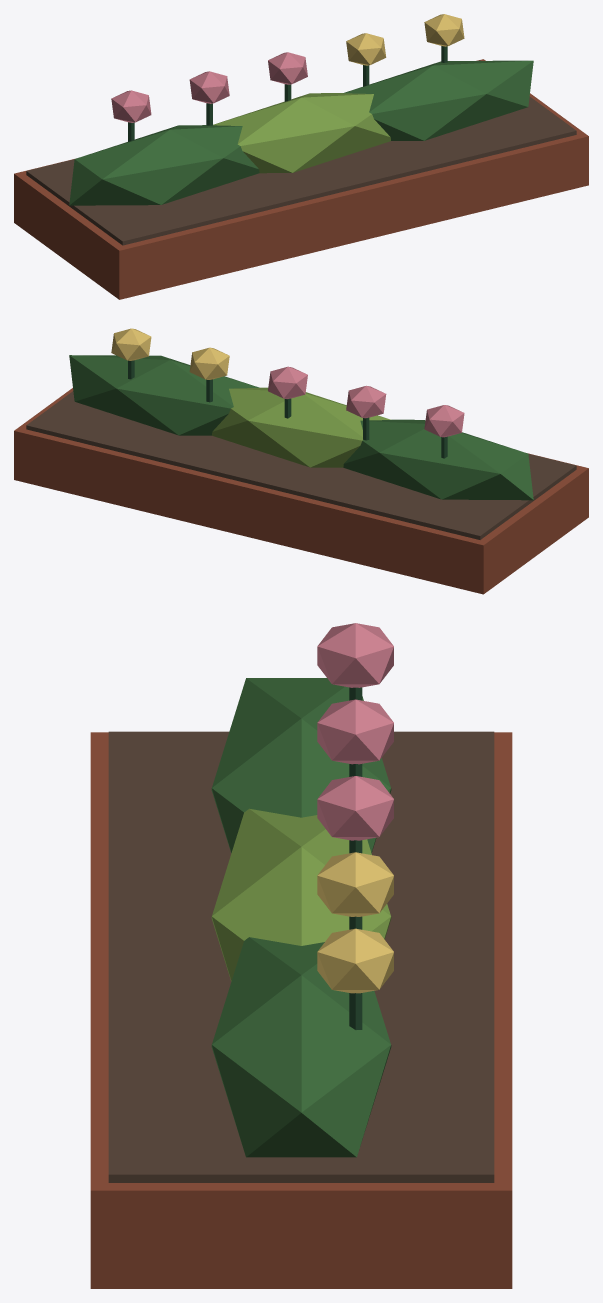
File: Backyard_FlowerBed_Simple.glb
The picture shows the model from 3 angles, top to bottom: view 1: azimuth 30°, elevation 25°; view 2: azimuth 150°, elevation 25°; view 3: azimuth 270°, elevation 25°; orthographic projection. The views are drawn at different scales.
Parts seen in each view (by area): view 1: Backyard_FlowerBed_Simple; view 2: Backyard_FlowerBed_Simple; view 3: Backyard_FlowerBed_Simple.
Boxes of the visible parts, left/top/right/bottom form: Backyard_FlowerBed_Simple: left=14, top=14, right=588, bottom=299; Backyard_FlowerBed_Simple: left=14, top=328, right=588, bottom=594; Backyard_FlowerBed_Simple: left=90, top=623, right=512, bottom=1288.
Size of the model in its own units: 3.6 by 1.04 by 1.4.
